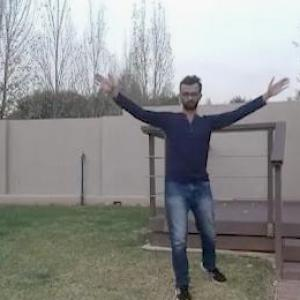takeoff: (108, 74, 282, 284)
